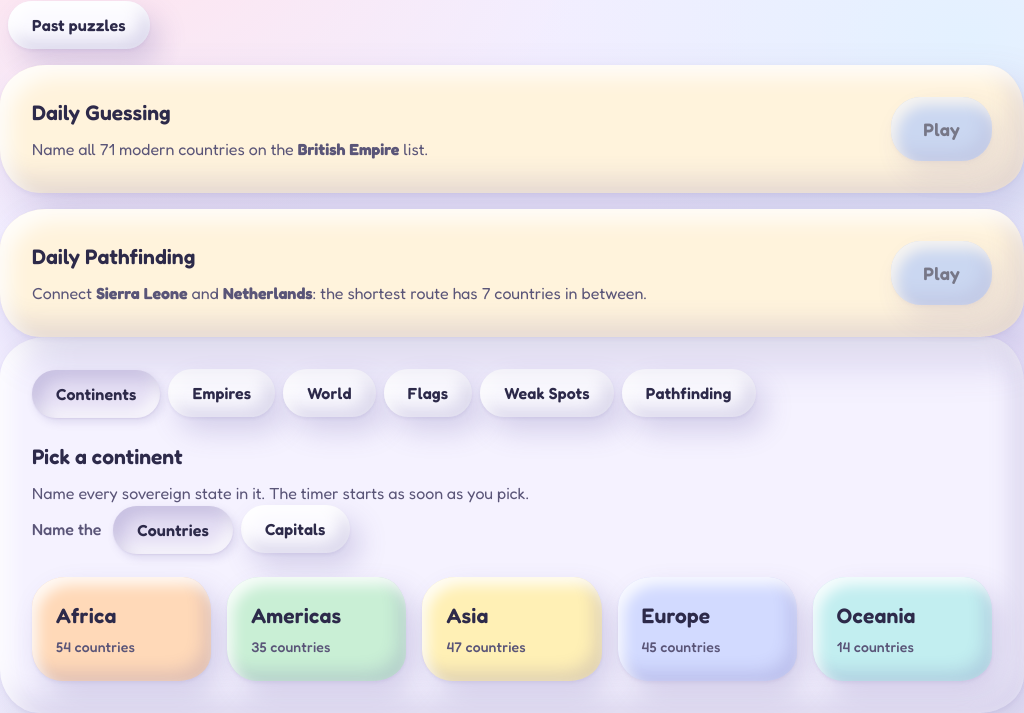
Test: setup › picking a continent filters the targets and starts the timer
(page scrolled)
Click the button "Africa 54 countries": [122, 628] box top-left (32, 576), bottom-right (211, 680)
Wait 65000 ms
(page scrolled)
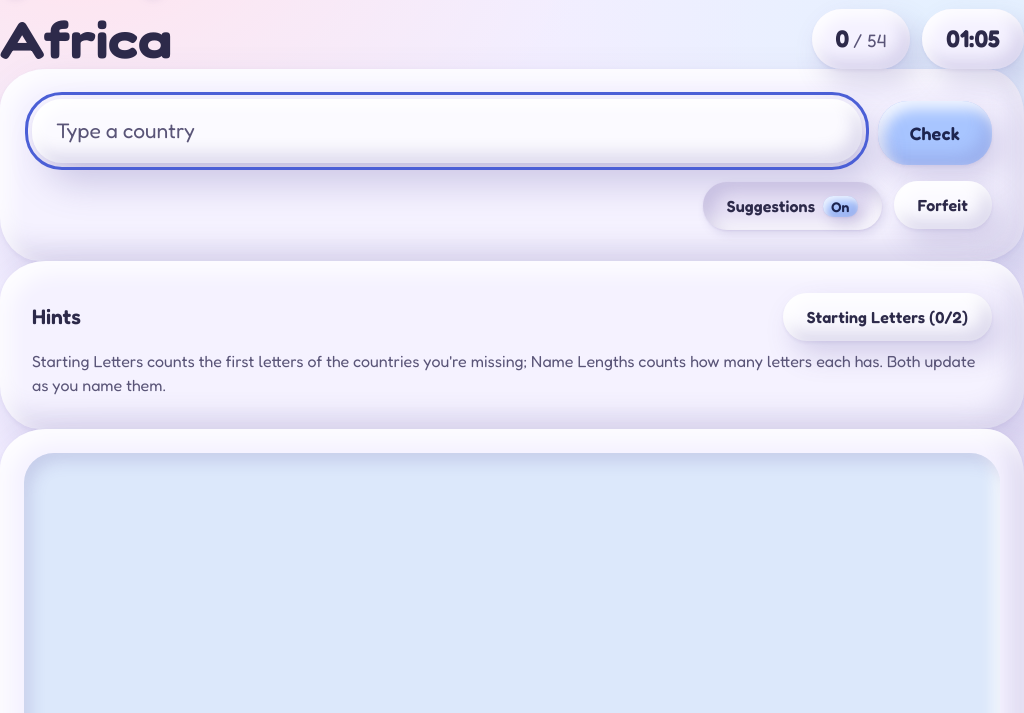
Expected: the heading "Africa" is shown, top-left (0, 12), bottom-right (172, 66)
